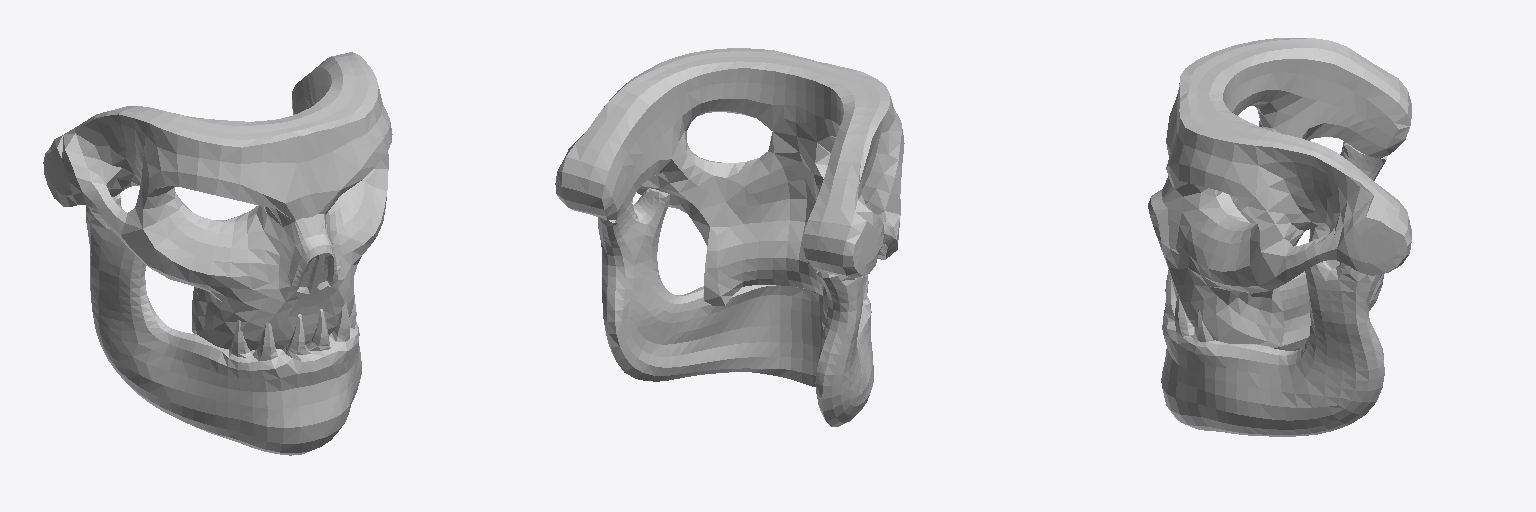
File: METAL TAKTICAL MASK FACE.obj
The picture shows the model from 3 angles: view 1: azimuth 30°, elevation 25°; view 2: azimuth 150°, elevation 25°; view 3: azimuth 270°, elevation 25°; orthographic projection.
Visible parts, largest first — view 1: Volume7, Volume7_copy000; view 2: Volume7, Volume7_copy000; view 3: Volume7, Volume7_copy000.
Part boxes in pixels (x1,y1,x2,y2): Volume7: (43, 52, 392, 350); Volume7_copy000: (86, 194, 361, 455); Volume7: (555, 48, 904, 329); Volume7_copy000: (598, 188, 873, 426); Volume7: (1148, 38, 1411, 348); Volume7_copy000: (1161, 141, 1386, 436).
Bounding box in the file's own units: 52.95 × 55.86 × 40.49.